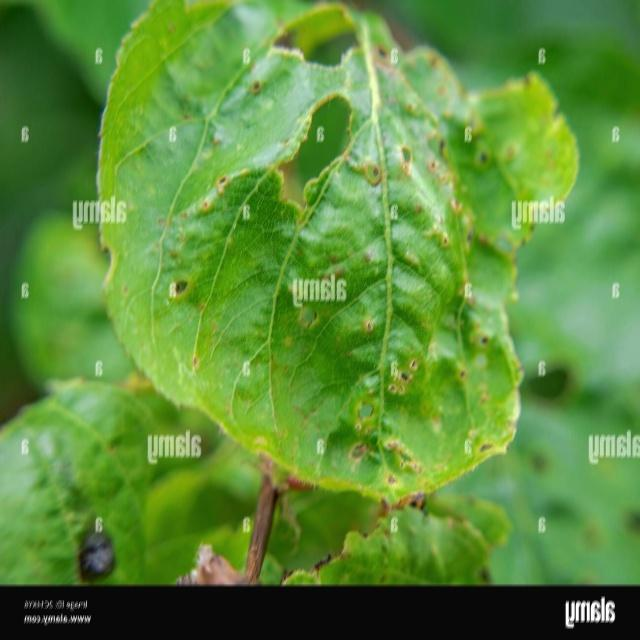shot_hole: (169, 9, 535, 522)
